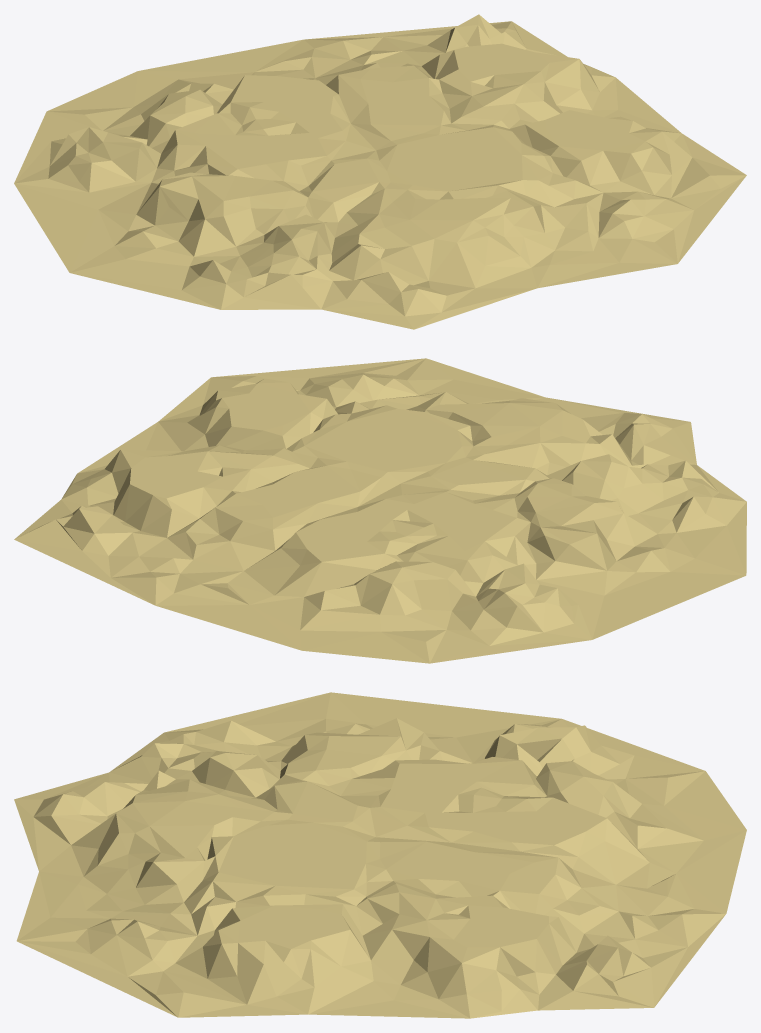
The model's file is TerrainSand_2.fbx.
3 renders of one model, top to bottom at view 1: azimuth 30°, elevation 25°; view 2: azimuth 150°, elevation 25°; view 3: azimuth 270°, elevation 25°, orthographic. The views are drawn at different scales.
Visible parts, largest first — view 1: TerrainSand_2; view 2: TerrainSand_2; view 3: TerrainSand_2.
Part boxes in pixels (box(x1,y1,x2,y2)): TerrainSand_2: box(14, 14, 746, 329); TerrainSand_2: box(14, 358, 746, 663); TerrainSand_2: box(14, 692, 746, 1018).
Bounding box in the file's own units: 2582 × 146 × 2448.
